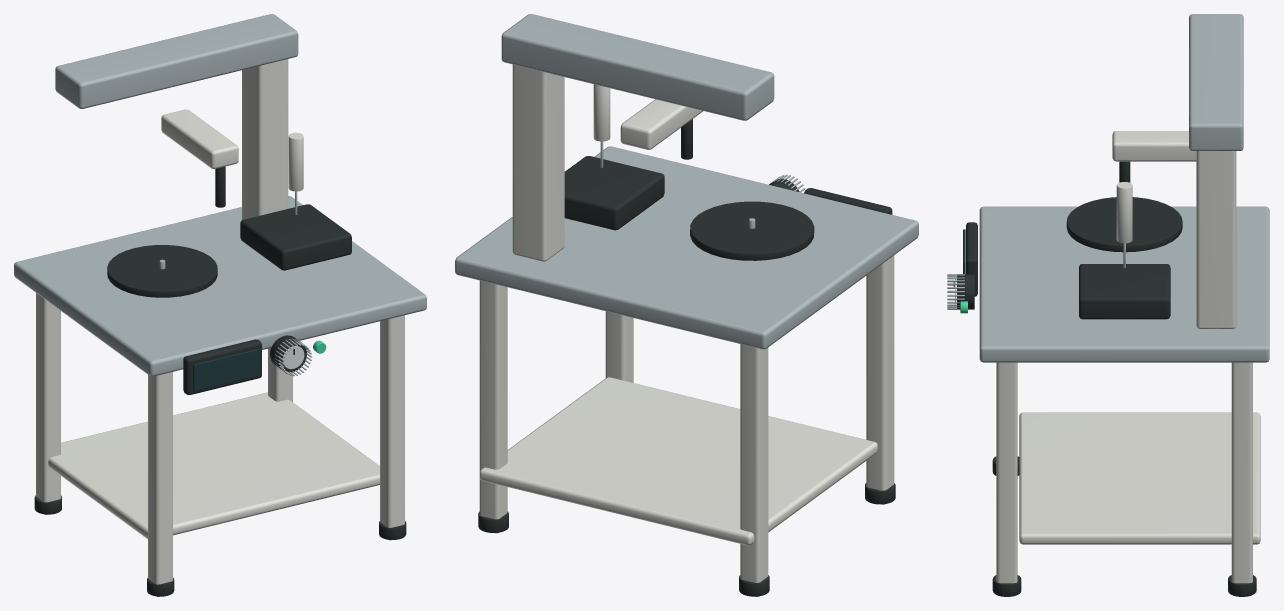
Rendered from picker.glb.
The picture shows the model from 3 angles, left to right: view 1: azimuth 30°, elevation 25°; view 2: azimuth 150°, elevation 25°; view 3: azimuth 270°, elevation 25°; orthographic projection. The views are drawn at different scales.
Visible parts, largest first — view 1: Equipment_picker_Ceramic ivory, Equipment_picker_Brushed stainless, Equipment_picker_Knurled graphite, Tool.003_Ceramic ivory, LCD.020, GlueHead_Ceramic ivory, Knob_main.020; view 2: Equipment_picker_Ceramic ivory, Equipment_picker_Brushed stainless, Equipment_picker_Knurled graphite, Tool.003_Ceramic ivory, GlueHead_Ceramic ivory; view 3: Equipment_picker_Ceramic ivory, Equipment_picker_Brushed stainless, Equipment_picker_Knurled graphite, Tool.003_Ceramic ivory, GlueHead_Ceramic ivory, Knob_main.020.
Boxes of the visible parts, x1,y1,x2,y2 form: Equipment_picker_Ceramic ivory: (36, 59, 404, 596); Equipment_picker_Brushed stainless: (14, 14, 426, 376); Equipment_picker_Knurled graphite: (34, 204, 406, 596); Tool.003_Ceramic ivory: (161, 109, 238, 168); LCD.020: (193, 348, 259, 391); GlueHead_Ceramic ivory: (288, 132, 303, 191); Knob_main.020: (270, 335, 307, 372); Equipment_picker_Ceramic ivory: (479, 64, 894, 596); Equipment_picker_Brushed stainless: (455, 14, 918, 349); Equipment_picker_Knurled graphite: (478, 156, 895, 596); Tool.003_Ceramic ivory: (620, 99, 703, 149); GlueHead_Ceramic ivory: (593, 84, 610, 141); Equipment_picker_Ceramic ivory: (996, 151, 1260, 596); Equipment_picker_Brushed stainless: (947, 14, 1269, 362); Equipment_picker_Knurled graphite: (953, 197, 1256, 596); Tool.003_Ceramic ivory: (1112, 131, 1196, 161); GlueHead_Ceramic ivory: (1116, 182, 1132, 243); Knob_main.020: (957, 274, 974, 309).
Bounding box in the file's own units: 1.1 × 1.68 × 1.06.
